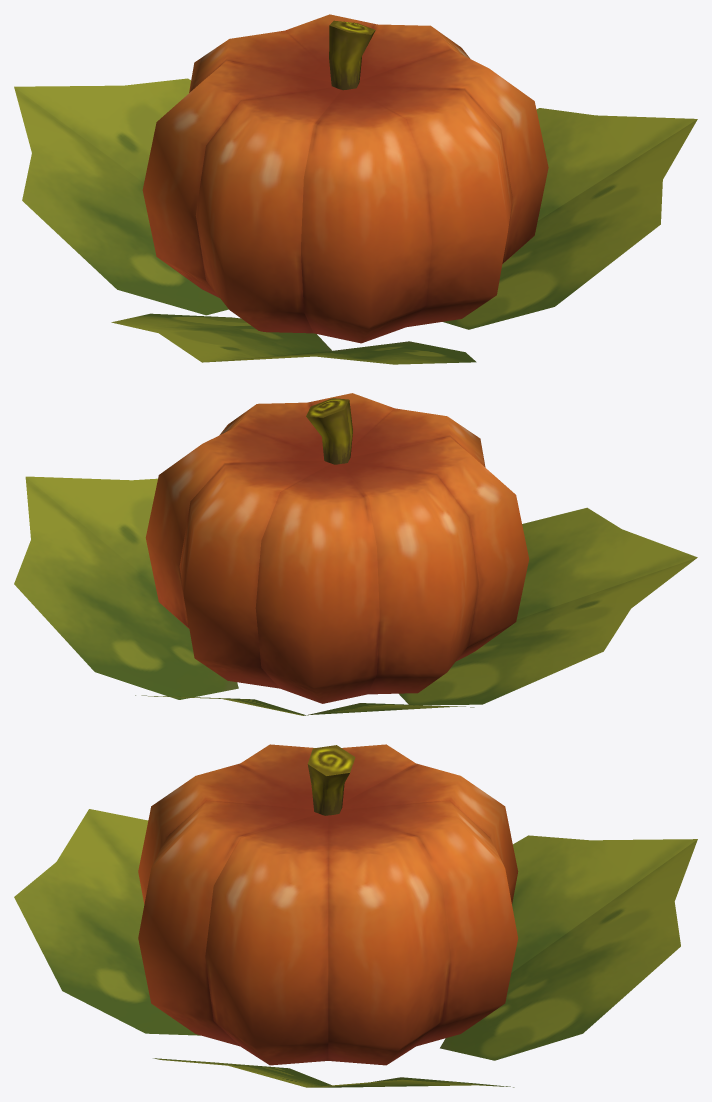
File: pumpkin_hurt.fbx
3 renders of one model, top to bottom at view 1: azimuth 30°, elevation 25°; view 2: azimuth 150°, elevation 25°; view 3: azimuth 270°, elevation 25°, orthographic. The views are drawn at different scales.
Parts seen in each view (by area): view 1: pumpkin_hurt; view 2: pumpkin_hurt; view 3: pumpkin_hurt.
Part boxes in pixels (<box>): pumpkin_hurt: <box>14,14,697,364</box>; pumpkin_hurt: <box>14,393,697,715</box>; pumpkin_hurt: <box>14,744,697,1087</box>.
Size of the model in its own units: 1.28 by 0.5883 by 1.24.
1 material, 1 textured.
